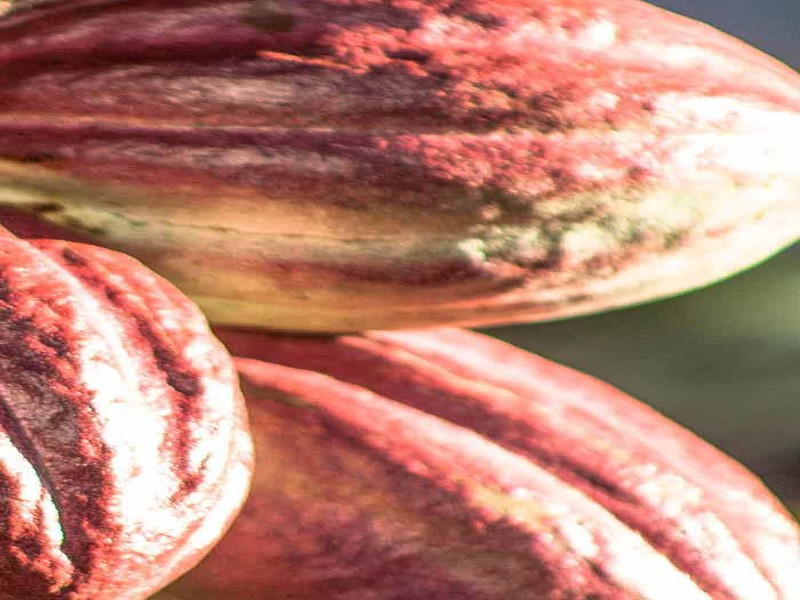Cacaopod: (2, 3, 800, 330)
